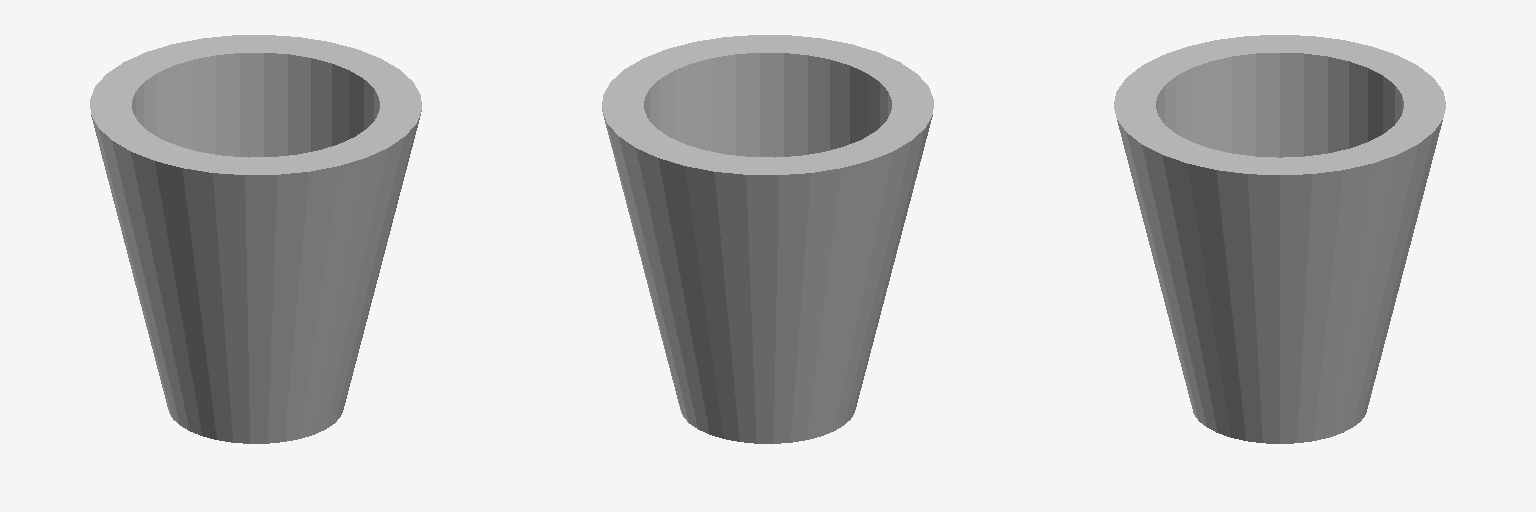
File: TrashCan.obj
3 renders of one model, left to right at view 1: azimuth 30°, elevation 25°; view 2: azimuth 150°, elevation 25°; view 3: azimuth 270°, elevation 25°, orthographic.
Visible parts, largest first — view 1: Cylinder; view 2: Cylinder; view 3: Cylinder.
Boxes of the visible parts, box(x1,y1,x2,y2) form: Cylinder: box(90, 35, 421, 443); Cylinder: box(602, 35, 933, 443); Cylinder: box(1114, 35, 1445, 443).
Size of the model in its own units: 2 by 2 by 2.